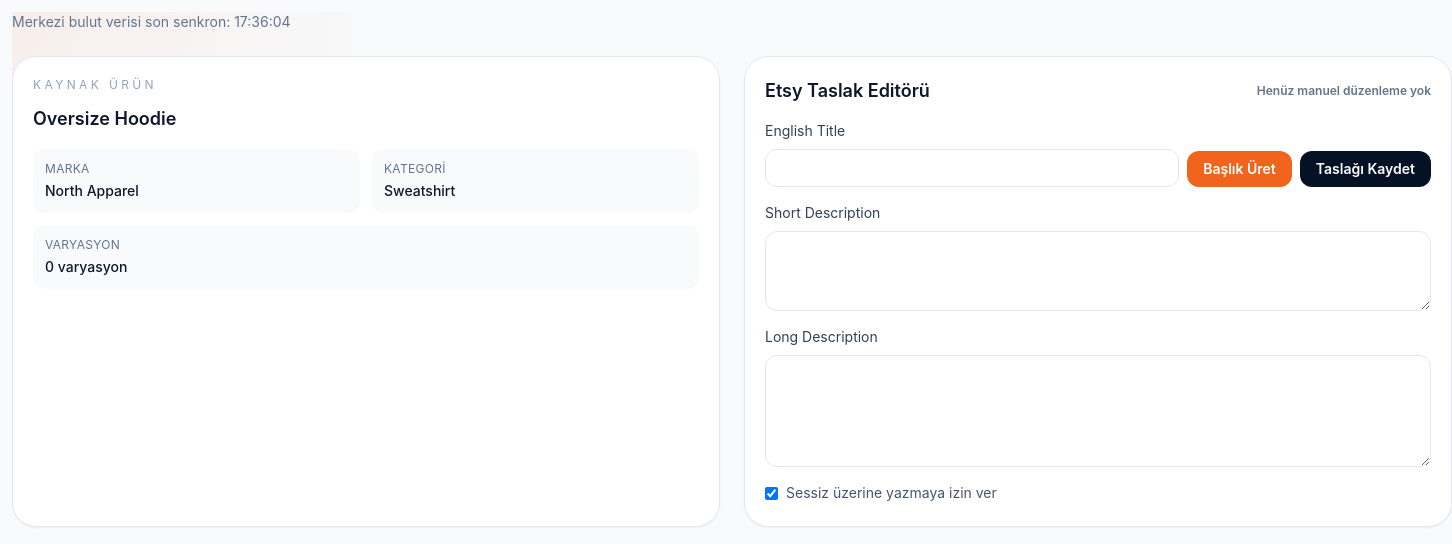
it: DraftEditor › runs draft generation through the cloud AI endpoint and saves the result via the API
The width and height of the screenshot is (1452, 544).
Click the button "Başlık Üret" at (1240, 169), box [1187,151,1292,187]
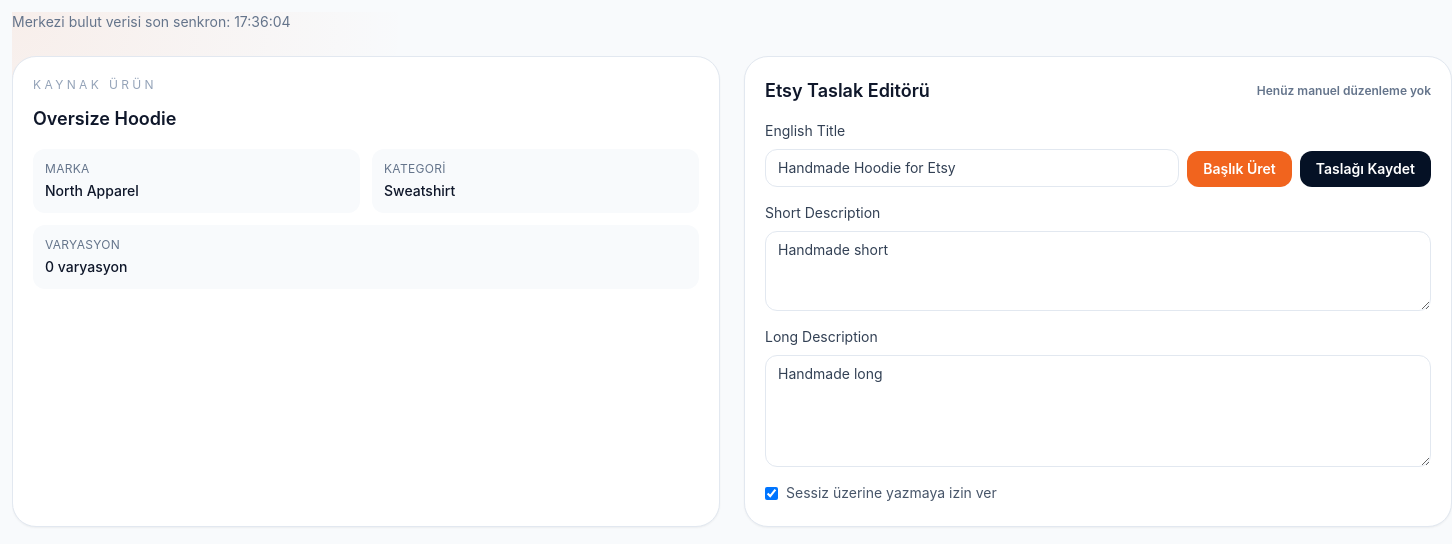
Now the field showing "handmade hoodie" is shown, box [765,149,1179,187]
